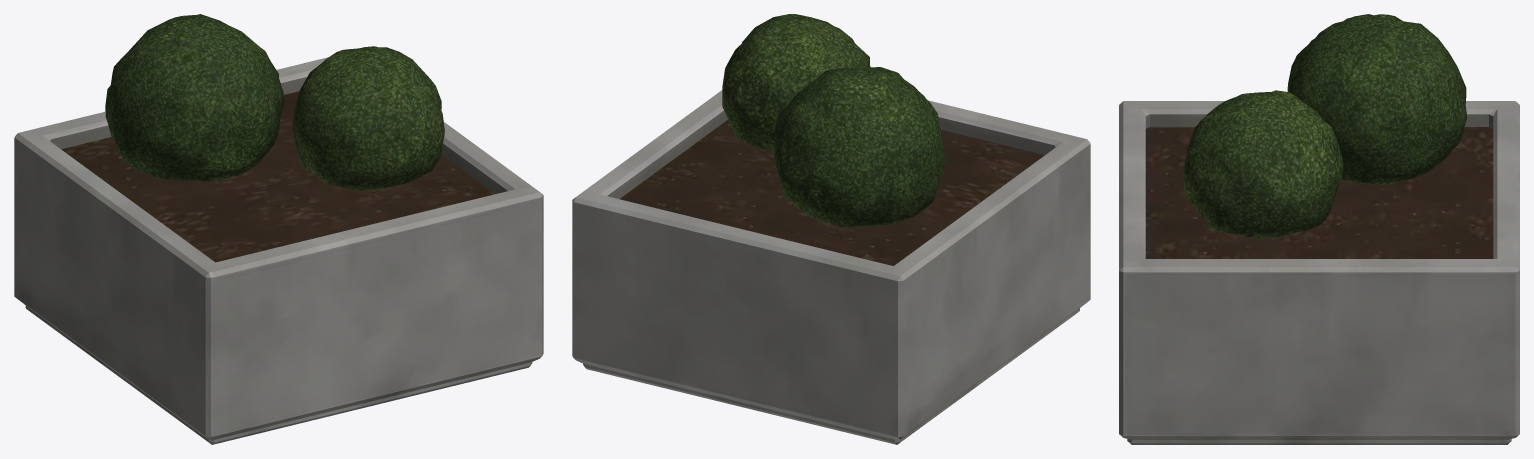
The model's file is street-planter.glb.
3 renders of one model, left to right at view 1: azimuth 30°, elevation 25°; view 2: azimuth 150°, elevation 25°; view 3: azimuth 270°, elevation 25°, orthographic. The views are drawn at different scales.
Parts seen in each view (by area): view 1: street-planter_body, street-planter_boxwood; view 2: street-planter_body, street-planter_boxwood; view 3: street-planter_body, street-planter_boxwood.
Part boxes in pixels (x1=…): street-planter_body: x1=14, y1=57, x2=543, y2=444; street-planter_boxwood: x1=105, y1=14, x2=444, y2=190; street-planter_body: x1=572, y1=90, x2=1090, y2=444; street-planter_boxwood: x1=722, y1=14, x2=944, y2=228; street-planter_body: x1=1119, y1=101, x2=1519, y2=444; street-planter_boxwood: x1=1182, y1=14, x2=1466, y2=239.
Size of the model in its own units: 1.2 by 1.04 by 1.2.
2 materials, 2 textured.
